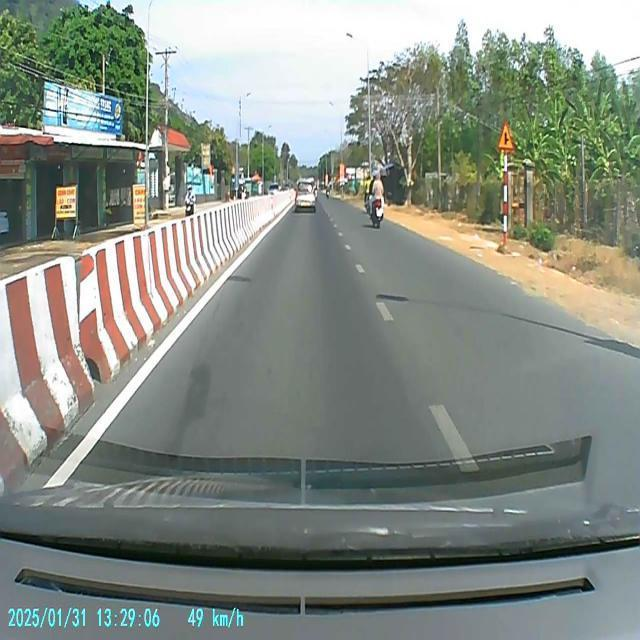207-giao-nhau-voi-duong-khong-uu-tien: (497, 124, 515, 152)
